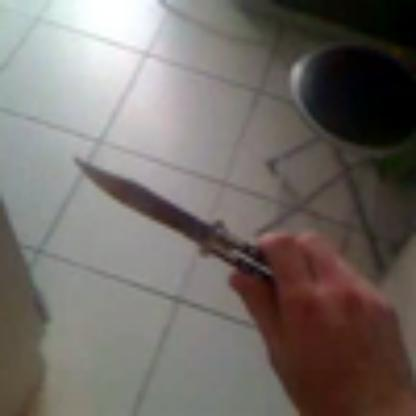knives: (70, 125, 324, 349)
